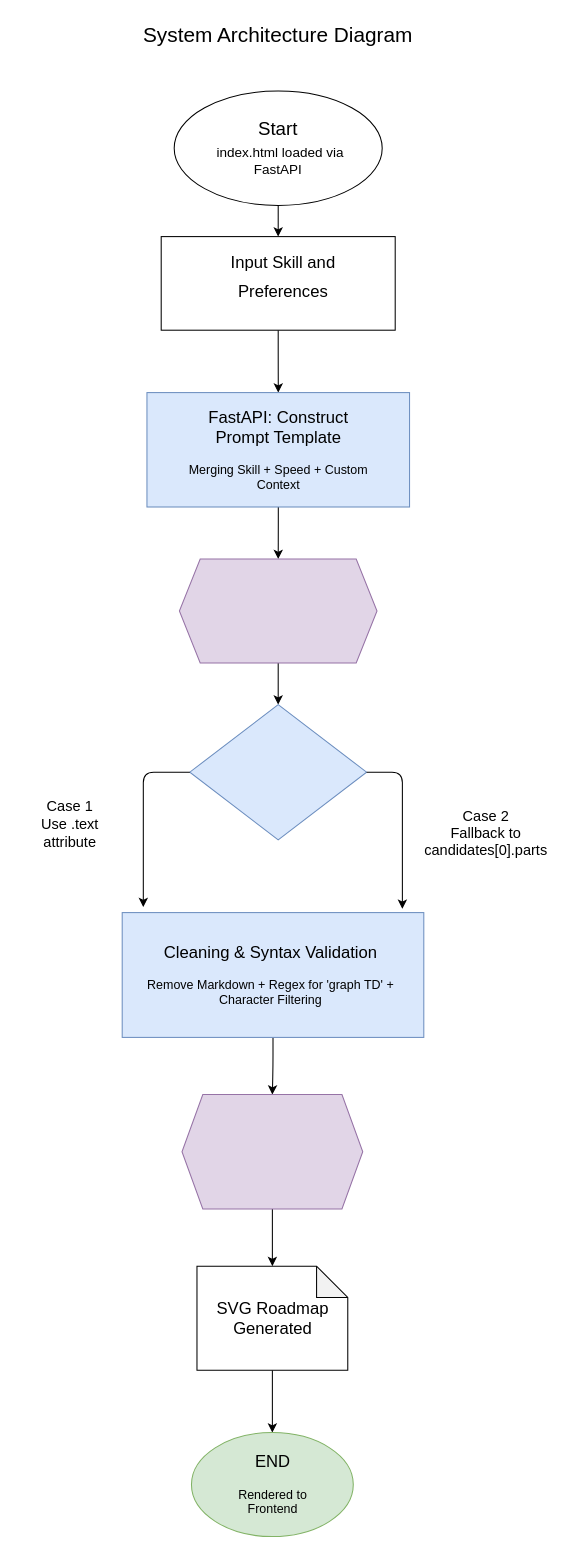
This 587x1555 diagram has some shape labels left out. The shapes that lost their labels are listed below. From the top down, each one's box as (x1, y1, x2, y2) in pixels, then its label:
(178, 558, 377, 663): Gemini 2.5 Flash API
(189, 704, 367, 840): Check Response Structure
(181, 1094, 363, 1209): Kroki.io Rendering Service
